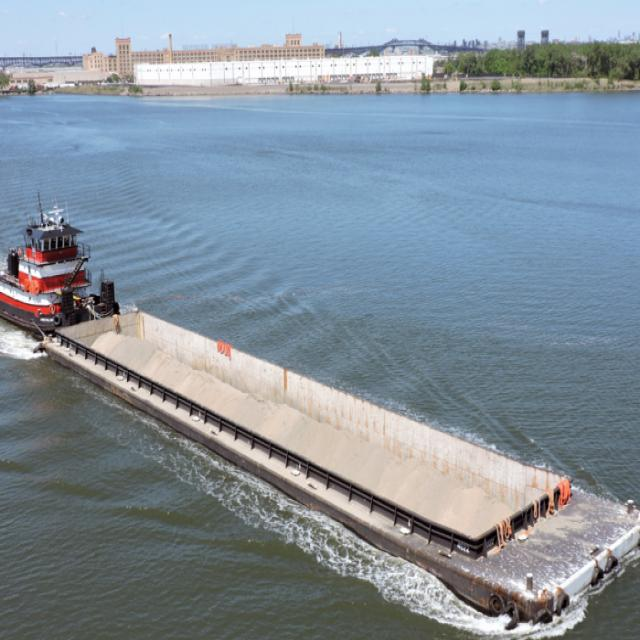tugboat: (1, 188, 128, 359)
